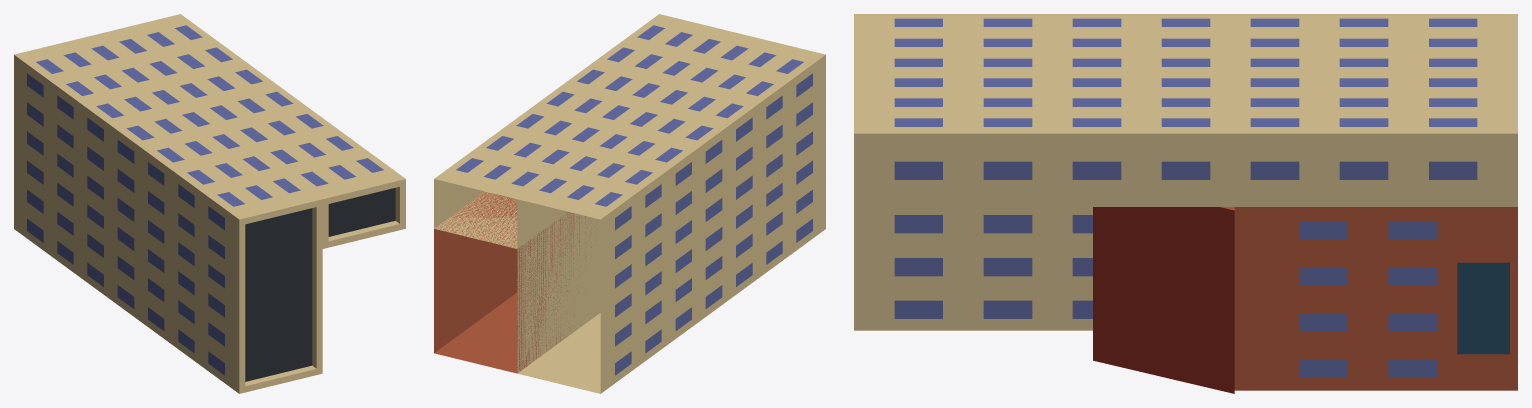
Rendered from complete.glb.
The picture shows the model from 3 angles, left to right: view 1: azimuth 30°, elevation 25°; view 2: azimuth 150°, elevation 25°; view 3: azimuth 270°, elevation 25°; orthographic projection. The views are drawn at different scales.
Parts seen in each view (by area): view 1: done; view 2: done; view 3: done.
Part boxes in pixels (bbox=[...]): done: bbox=[14, 14, 405, 393]; done: bbox=[434, 14, 825, 393]; done: bbox=[854, 14, 1517, 393].
Bounding box in the file's own units: 14.46 × 14.12 × 32.8.
